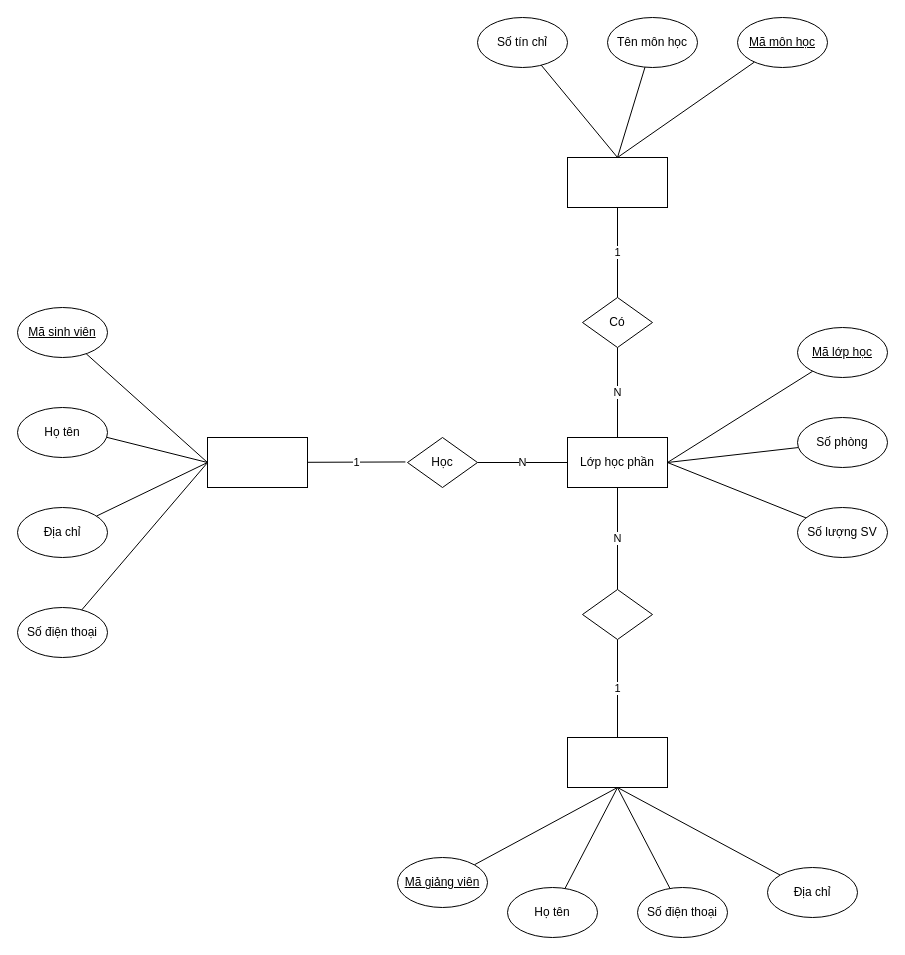
The diagram is 905 pixels wide and 955 high, and some of its shapes have lost their labels. The box of each missing label's shape, as (x1, y1, x2, y2) in pixels:
Dạy: (582, 588, 652, 640)
Giảng viên: (566, 736, 668, 788)
Môn học: (566, 156, 668, 208)
Sinh Viên: (206, 436, 308, 488)
